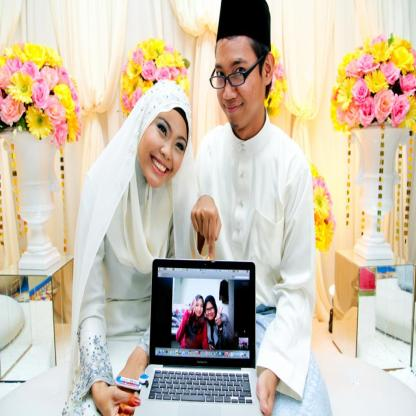board: (139, 261, 263, 416)
